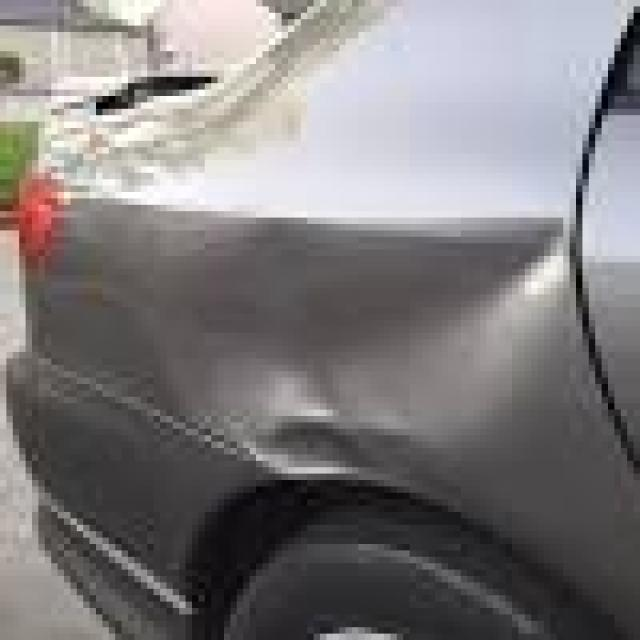minor: (146, 191, 566, 461)
